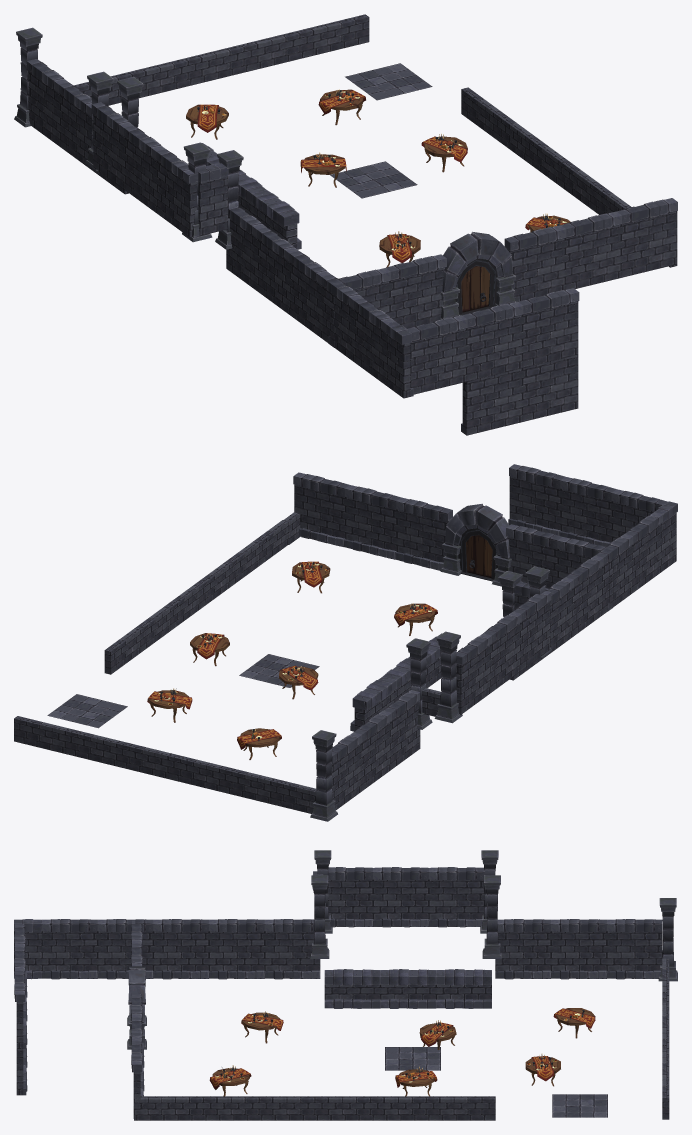
Rendered from BanquetRoom1.gltf.
3 views of the same model, one above another, from view 1: azimuth 30°, elevation 25°; view 2: azimuth 150°, elevation 25°; view 3: azimuth 270°, elevation 25° (orthographic). The views are drawn at different scales.
Visible parts, largest first — view 1: BanquetRoom1; view 2: BanquetRoom1; view 3: BanquetRoom1.
Part boxes in pixels (x1,y1,x2,y2): BanquetRoom1: (14, 14, 677, 435); BanquetRoom1: (14, 464, 677, 821); BanquetRoom1: (14, 850, 677, 1120).
Bounding box in the file's own units: 27.46 × 12.33 × 47.67.
Materials: 9 (9 with a texture image).
